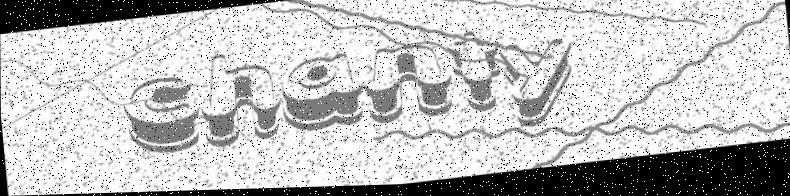a: (277, 52, 366, 137)
c: (121, 74, 202, 160)
h: (196, 46, 286, 150)
n: (361, 42, 455, 128)
t: (447, 30, 505, 119)
y: (499, 40, 579, 134)
